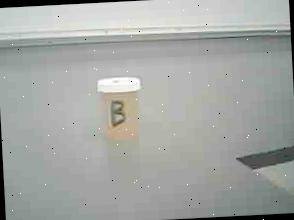Bottle B: (90, 69, 152, 150)
